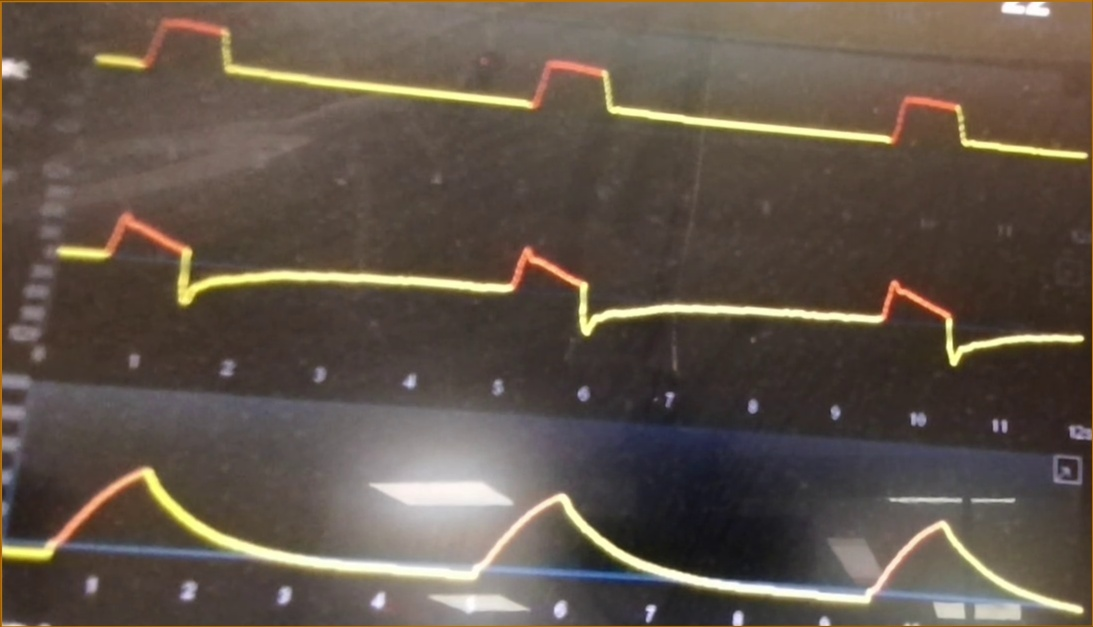Normal Flow: (62, 201, 1082, 368)
Normal Volume: (4, 453, 1080, 619)
